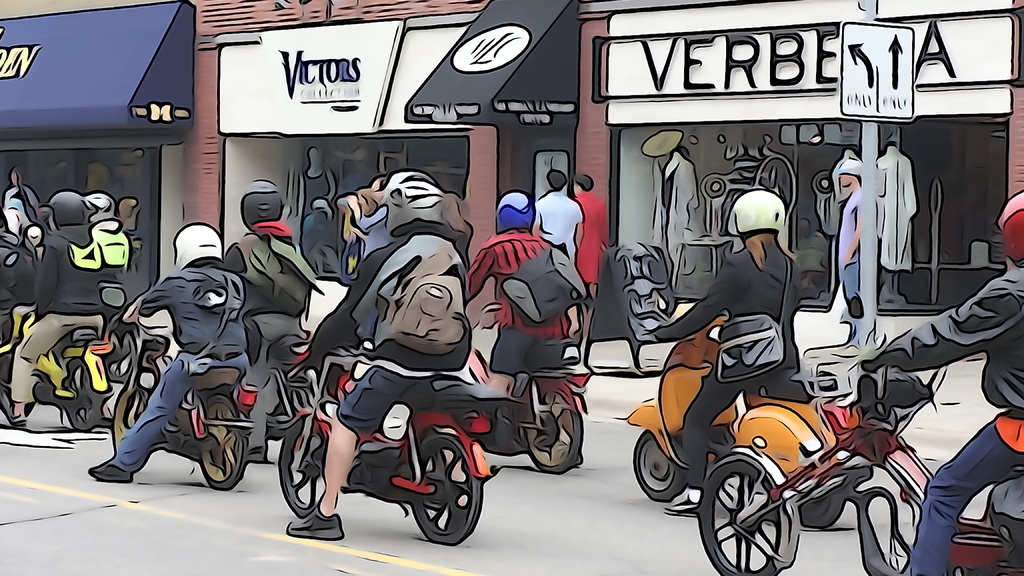Motorcycle: (696, 328, 1023, 574), (622, 314, 858, 526), (277, 346, 507, 547), (117, 332, 259, 492), (466, 301, 593, 471), (0, 307, 115, 433)
